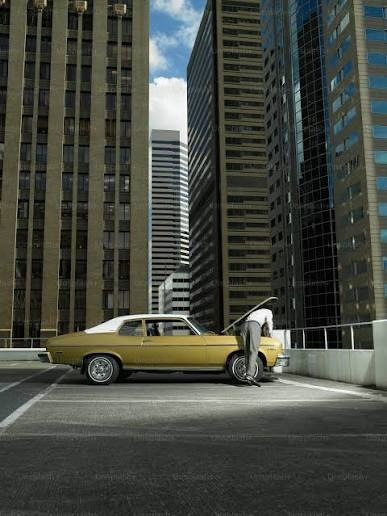car: (55, 307, 264, 391)
